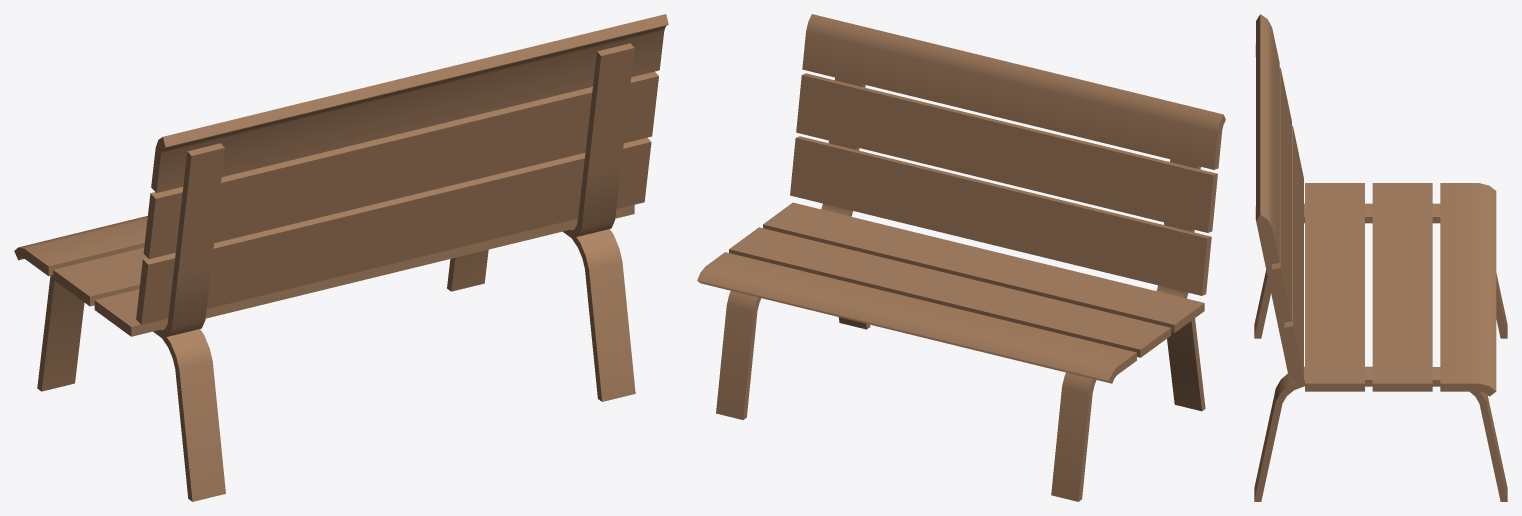
The model's file is Bench.fbx.
The picture shows the model from 3 angles, left to right: view 1: azimuth 30°, elevation 25°; view 2: azimuth 150°, elevation 25°; view 3: azimuth 270°, elevation 25°; orthographic projection. The views are drawn at different scales.
Visible parts, largest first — view 1: Becnh; view 2: Becnh; view 3: Becnh.
Boxes of the visible parts, <box> form: Becnh: <box>14,14,668,501</box>; Becnh: <box>697,14,1225,501</box>; Becnh: <box>1254,14,1507,501</box>.
Bounding box in the file's own units: 101 × 70.02 × 53.43.
